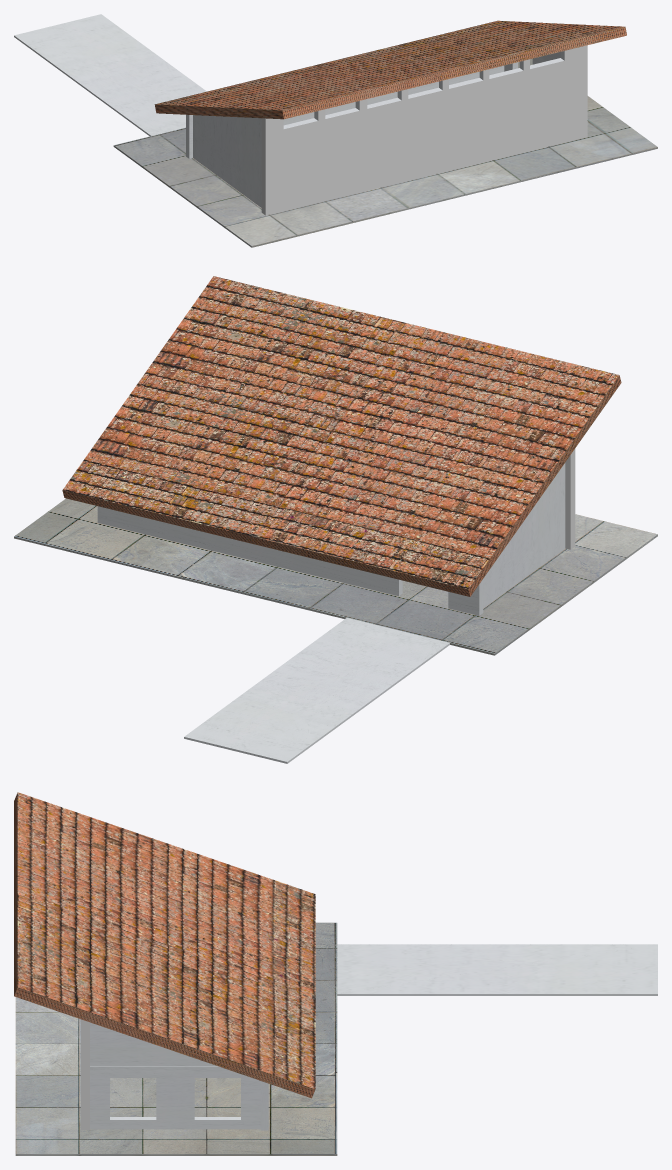
File: open_gallery.glb
3 renders of one model, top to bottom at view 1: azimuth 30°, elevation 25°; view 2: azimuth 150°, elevation 25°; view 3: azimuth 270°, elevation 25°, orthographic. The views are drawn at different scales.
Visible parts, largest first — view 1: left_wall, floor, roof, floor_1, back_wall, right_wall; view 2: roof, floor, floor_1, right_wall, back_wall, left_wall; view 3: roof, floor, floor_1, window_wall, top_of_window_wal, left_wall.
Boxes of the visible parts, x1,y1,x2,y2 form: left_wall: (261,45,587,215); floor: (113,58,657,247); roof: (154,20,626,119); floor_1: (14,14,206,136); back_wall: (193,115,261,207); right_wall: (186,65,504,158); roof: (62,276,621,596); floor: (14,498,657,655); floor_1: (184,618,449,763); right_wall: (97,506,483,615); back_wall: (483,463,565,607); left_wall: (565,449,575,549); roof: (14,792,315,1098); floor: (15,922,337,1155); floor_1: (336,944,657,995); window_wall: (90,1066,260,1129); top_of_window_wal: (90,1022,218,1066); left_wall: (81,1019,89,1129).
Bounding box in the file's own units: 2365 × 718 × 2785.
4 materials, 3 textured.
